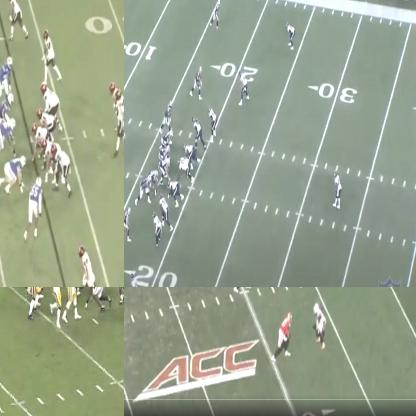CENTER: (30, 121, 49, 160), (159, 158, 171, 177)
DB: (312, 302, 326, 346), (286, 22, 296, 50), (334, 173, 342, 207), (154, 212, 162, 245), (131, 273, 139, 286)
LB: (27, 177, 41, 236), (159, 195, 173, 229), (0, 54, 12, 93), (206, 104, 218, 140), (193, 118, 206, 148), (239, 73, 248, 103)
QB: (115, 90, 123, 155)
SKILL: (78, 244, 106, 286), (6, 0, 28, 39), (44, 30, 60, 81), (275, 312, 293, 357), (53, 287, 62, 328), (194, 66, 203, 99), (124, 208, 132, 242), (164, 100, 172, 132), (213, 1, 221, 30), (71, 287, 78, 316), (109, 80, 116, 98)
